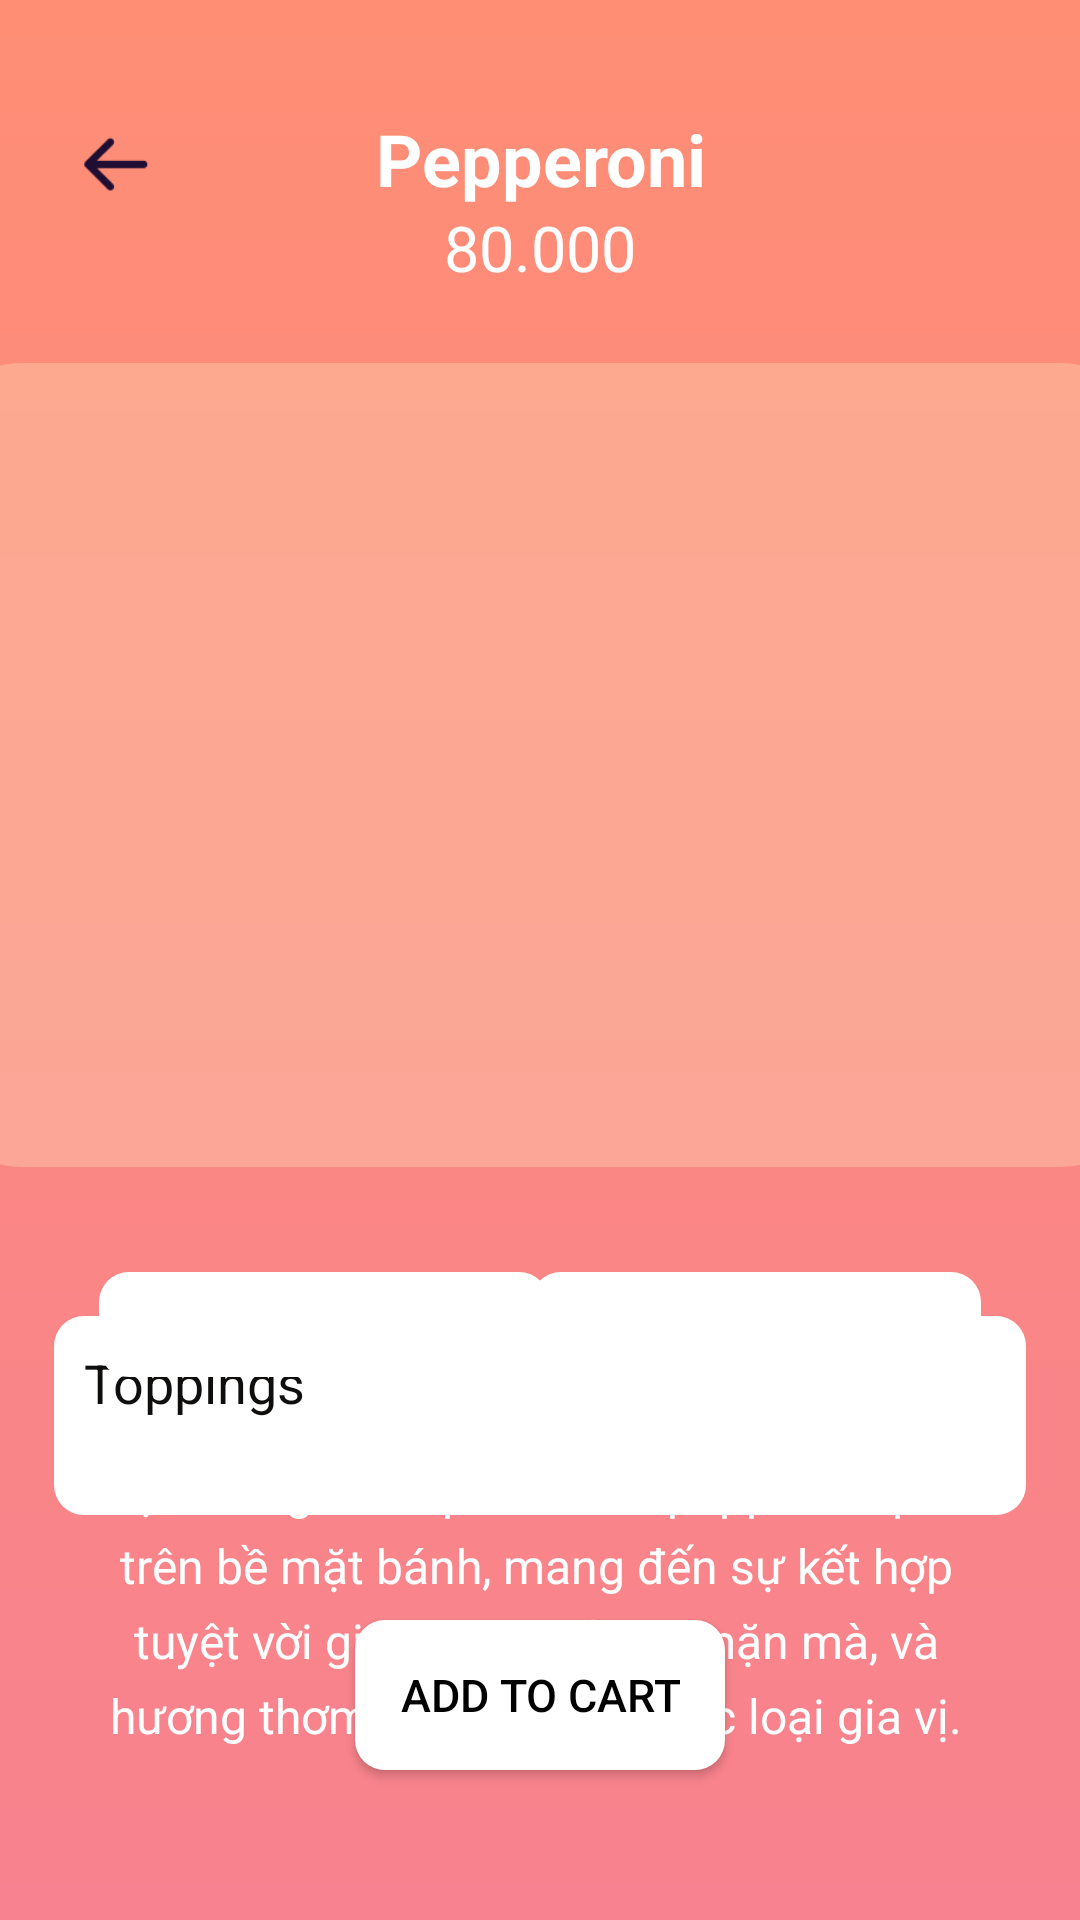

Point at icon controls on the screen. Image size 1080×1920, points as point (x, y).
arrow left: point (116, 164)
